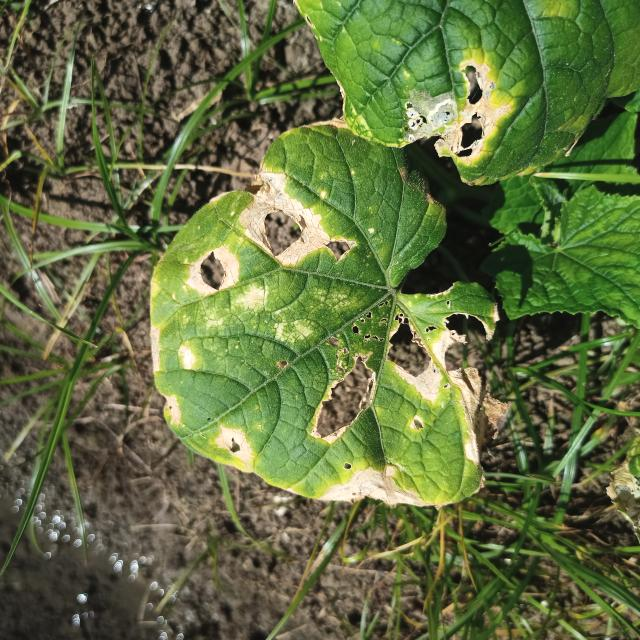disease_cucumber: (149, 167, 492, 510), (430, 58, 512, 173)
